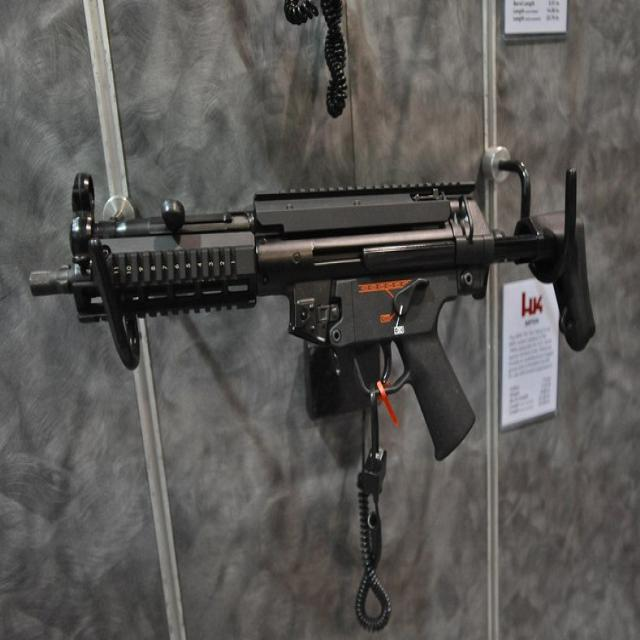firearm: (30, 175, 595, 462)
